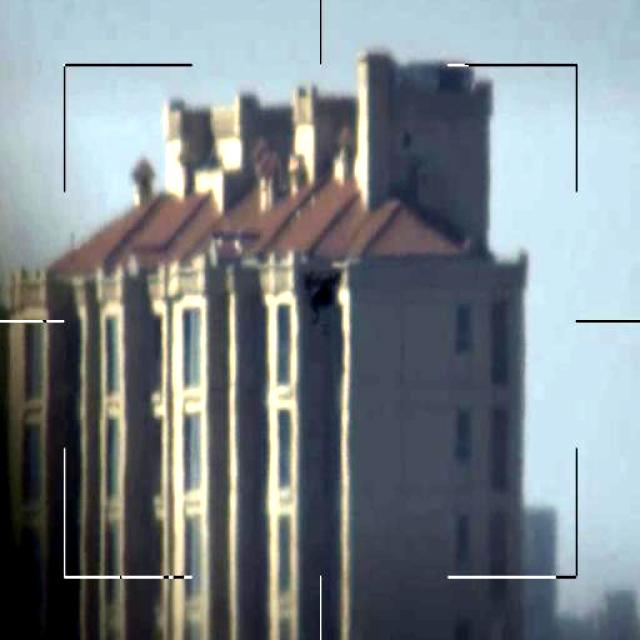bird: (298, 261, 346, 326)
